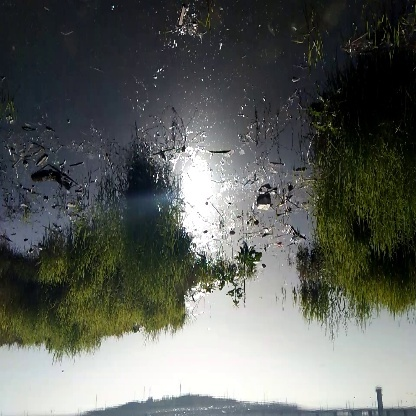plastic-garbage: (251, 191, 280, 216)
